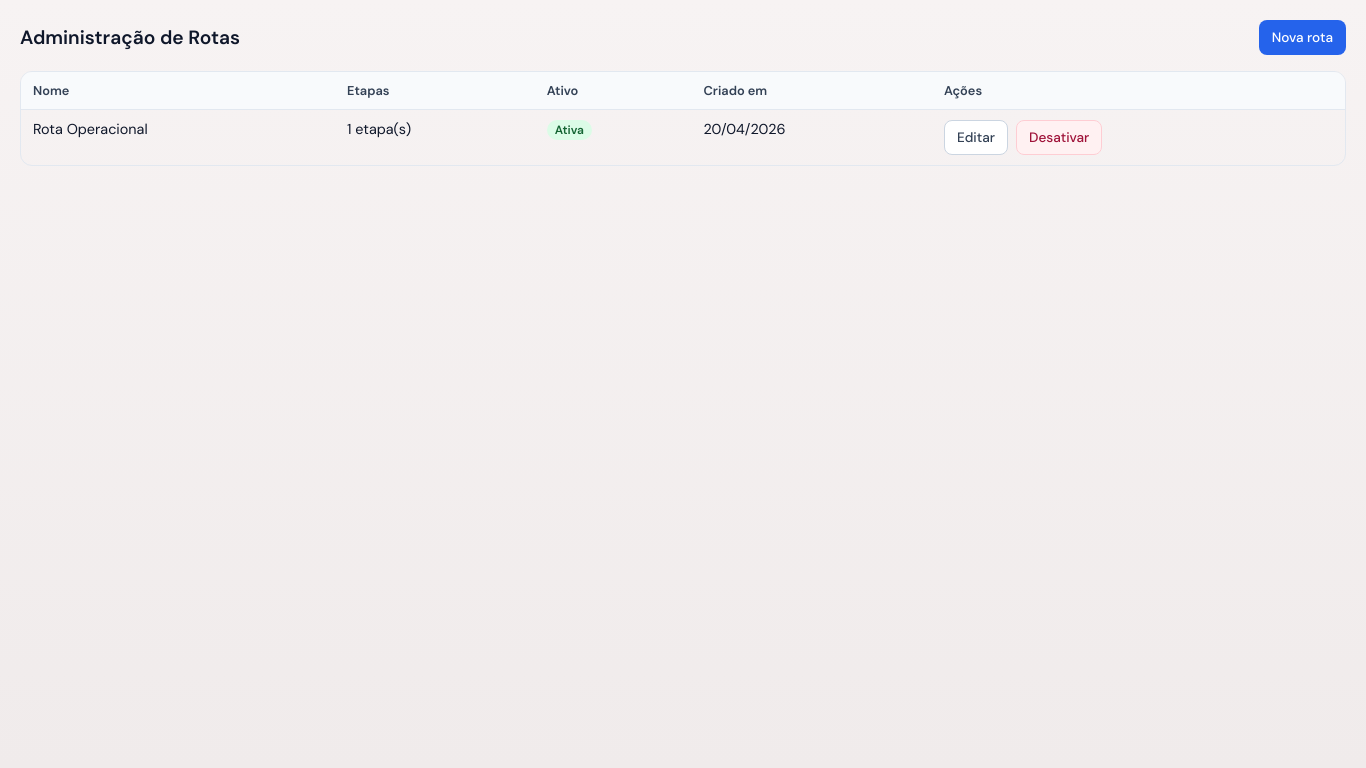
it: RouteAdminPage › deactivate shows confirmation dialog
Click the button with aria-label "Desativar Rota Operacional". click: {"x": 1059, "y": 138}
box: [1016,120,1102,155]
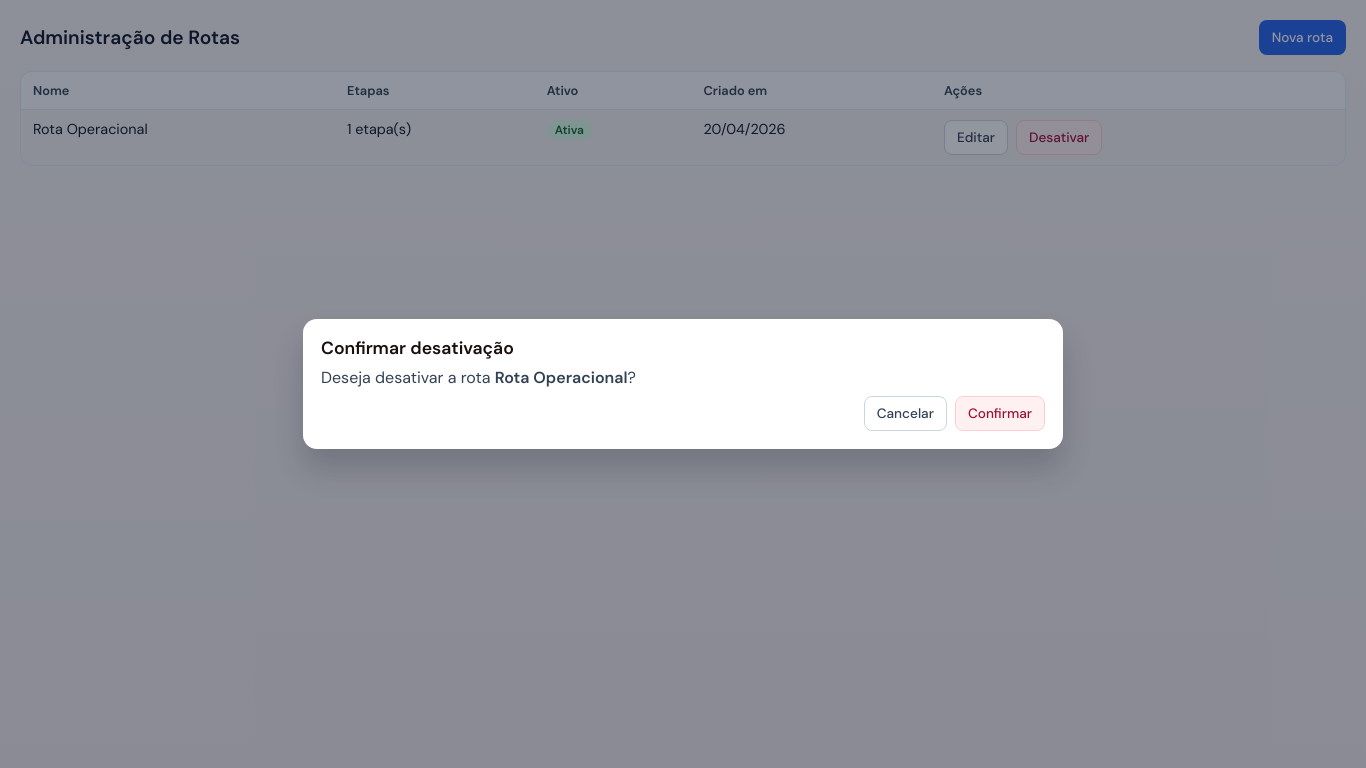
expect the dialog "Confirmar desativação" is shown: met, box [303,319,1063,449]
